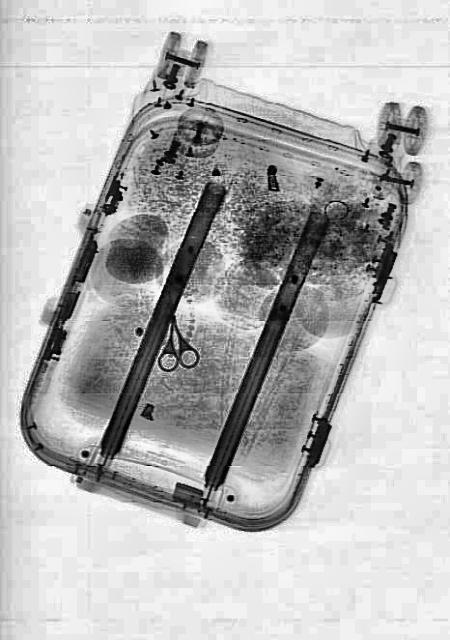Scissors: (151, 310, 199, 372)
